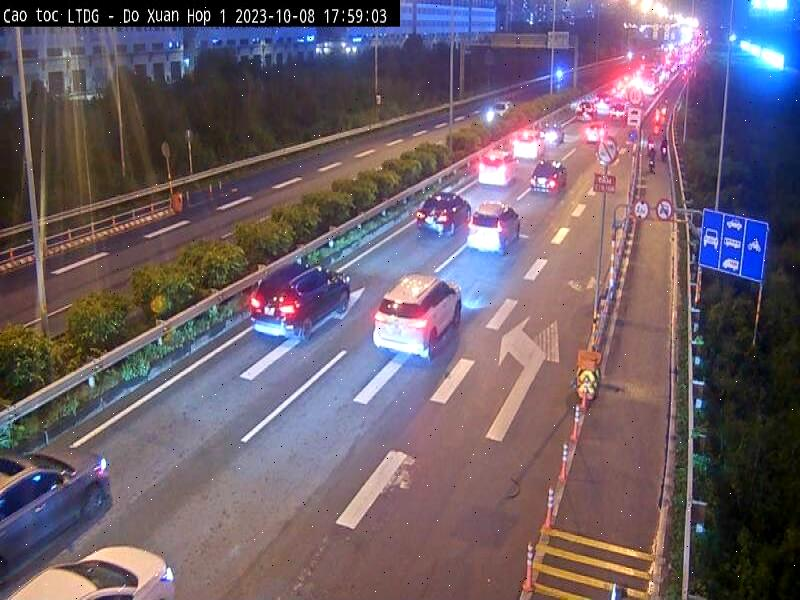car: (0, 446, 115, 578), (4, 542, 175, 600), (250, 261, 351, 342), (374, 272, 464, 357), (470, 203, 522, 257), (419, 190, 471, 236), (477, 147, 520, 188), (531, 157, 567, 197), (512, 129, 542, 161)
